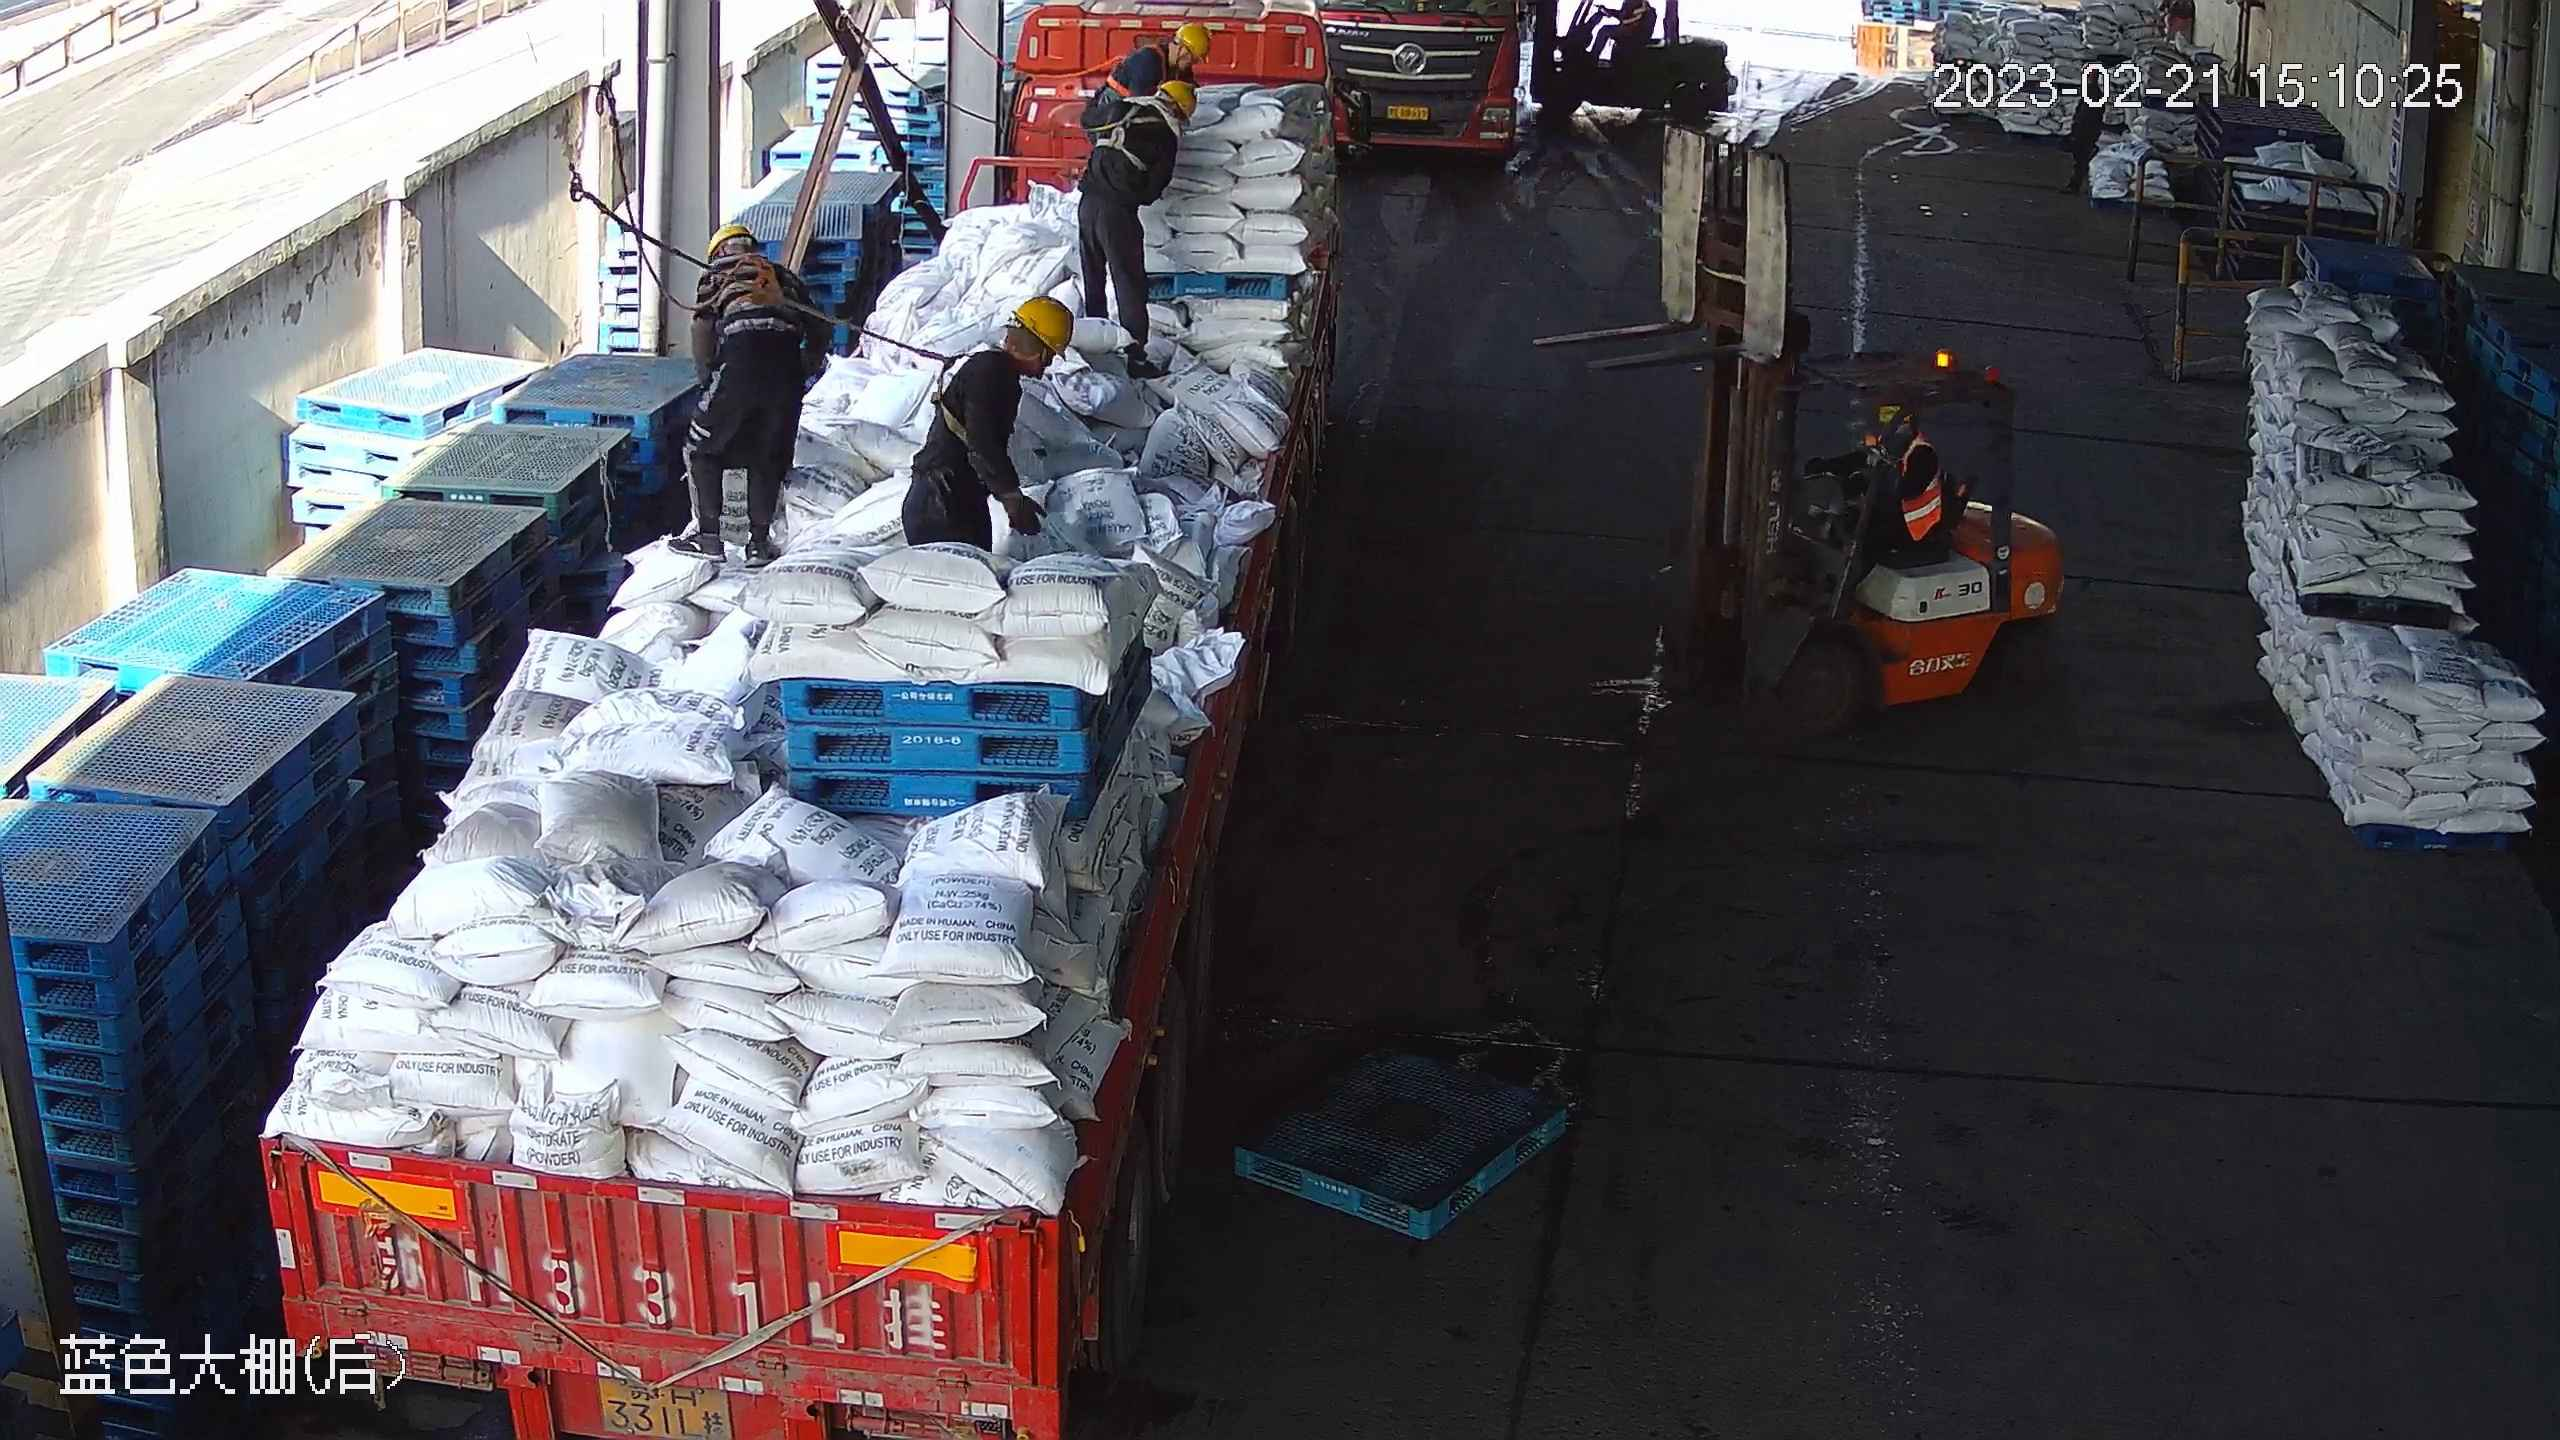belt: (922, 342, 990, 444), (1103, 42, 1176, 103), (1095, 106, 1162, 169), (722, 257, 786, 308)
head: (961, 294, 1074, 418), (691, 225, 815, 335), (1100, 86, 1203, 164), (1112, 25, 1215, 98)
helmet: (1012, 294, 1074, 362), (708, 222, 761, 254), (1157, 83, 1196, 118), (1176, 25, 1212, 59)
people: (664, 223, 817, 561), (901, 293, 1078, 561), (1073, 81, 1198, 388), (1803, 398, 1947, 626)
truck: (247, 11, 1340, 1440), (1329, 1, 1537, 169)
